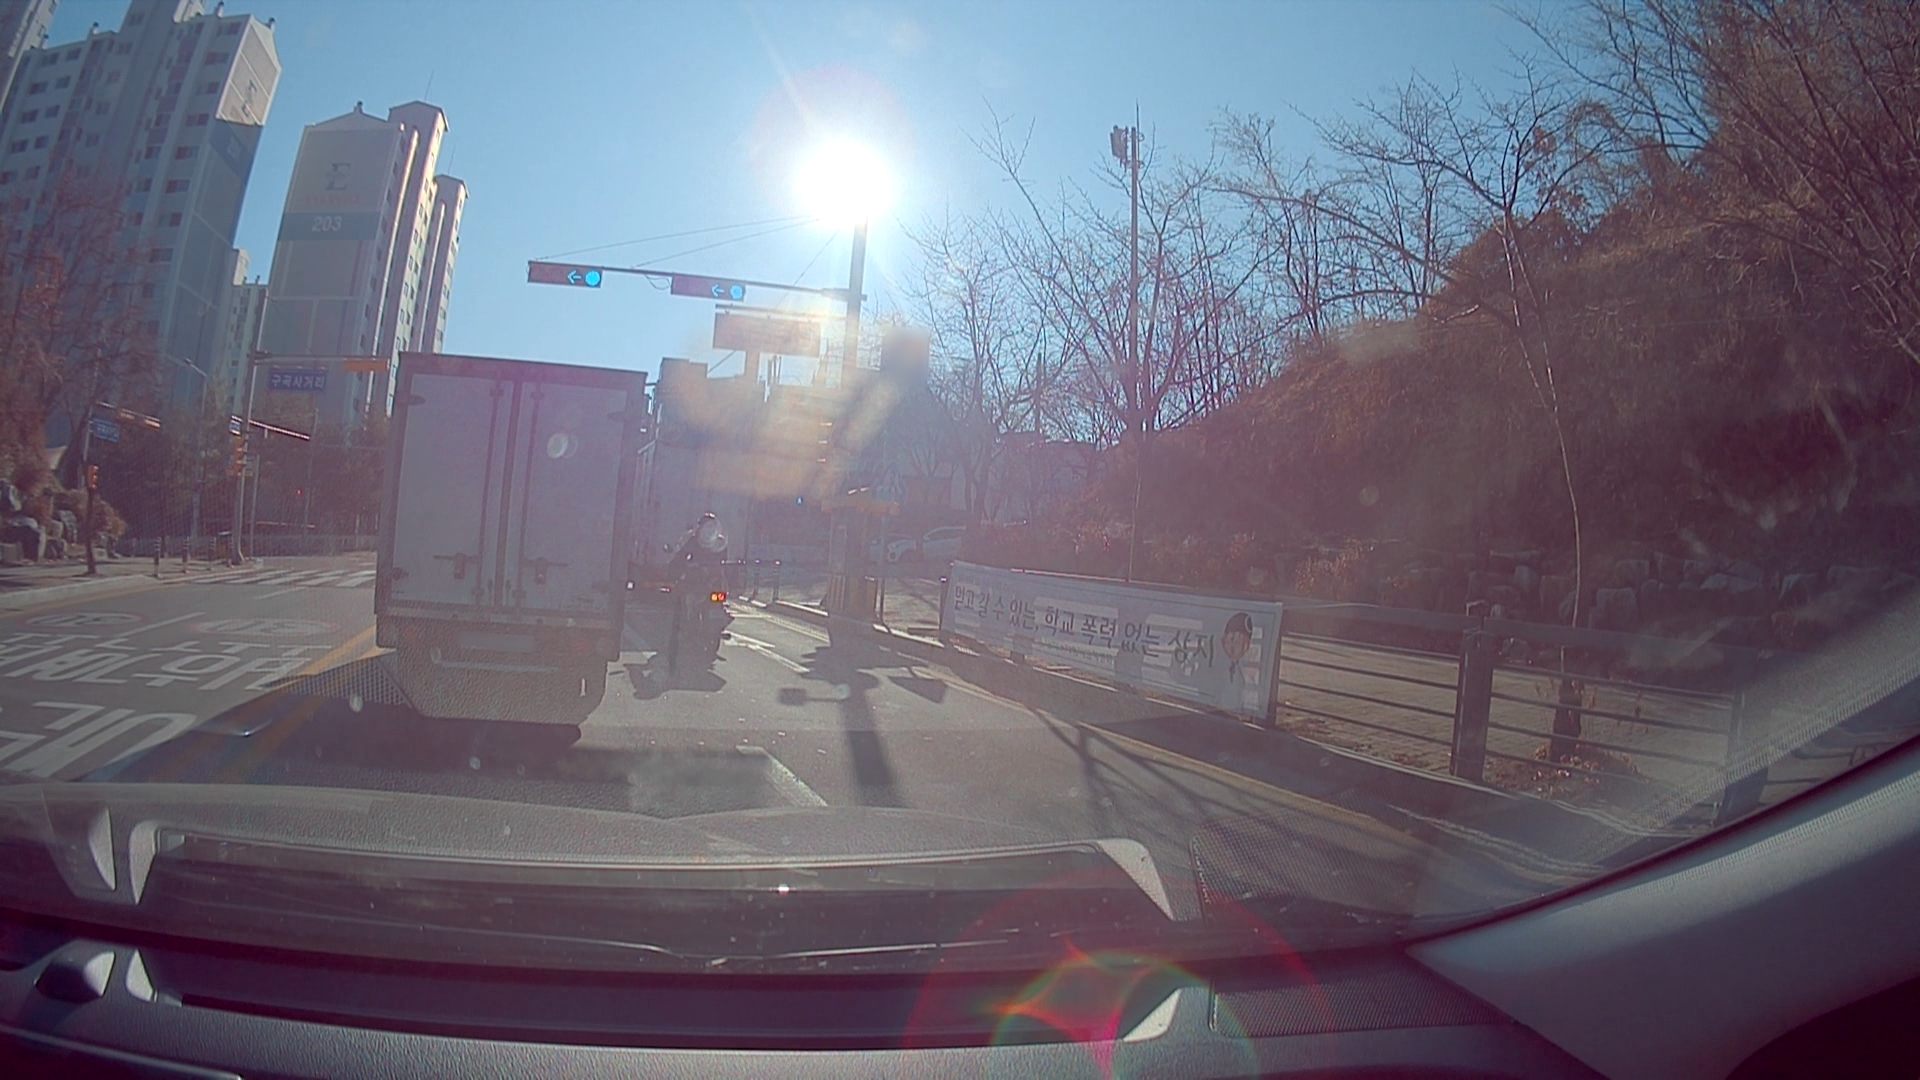trafficLight: (669, 272, 748, 306), (526, 258, 607, 291)
